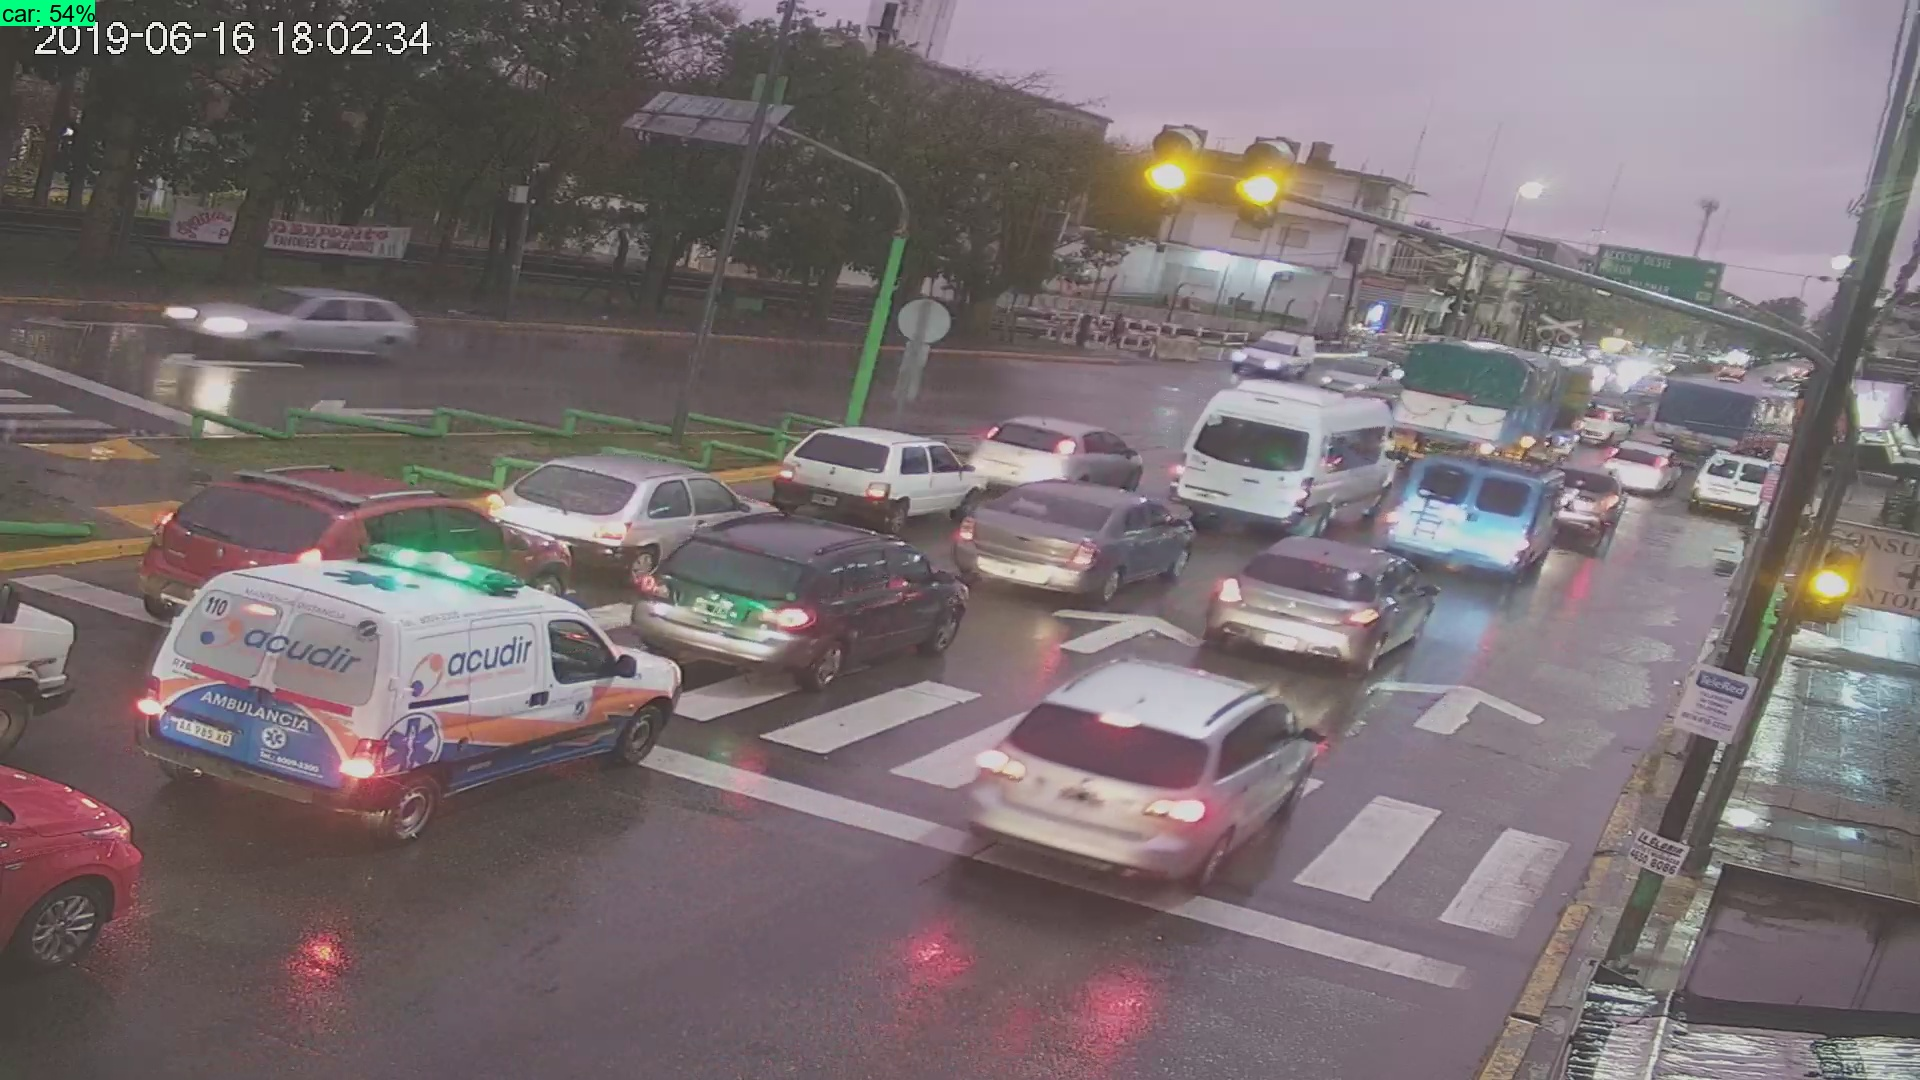car: (931, 640, 1336, 909), (641, 529, 977, 691), (469, 434, 781, 563), (1170, 378, 1396, 549), (1, 756, 181, 969), (942, 473, 1207, 605), (1207, 535, 1447, 676), (1379, 440, 1561, 595), (767, 415, 993, 534), (161, 270, 415, 364), (1691, 438, 1779, 534)
paramedics: (127, 564, 680, 823)
